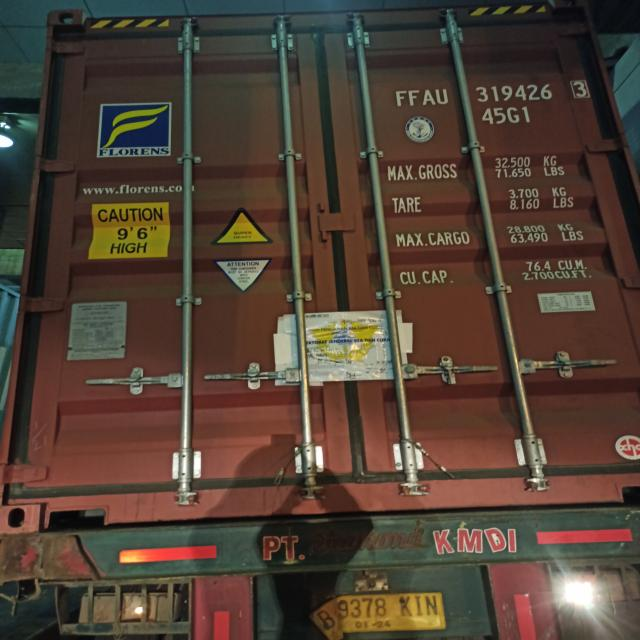seal: (442, 362, 460, 386)
